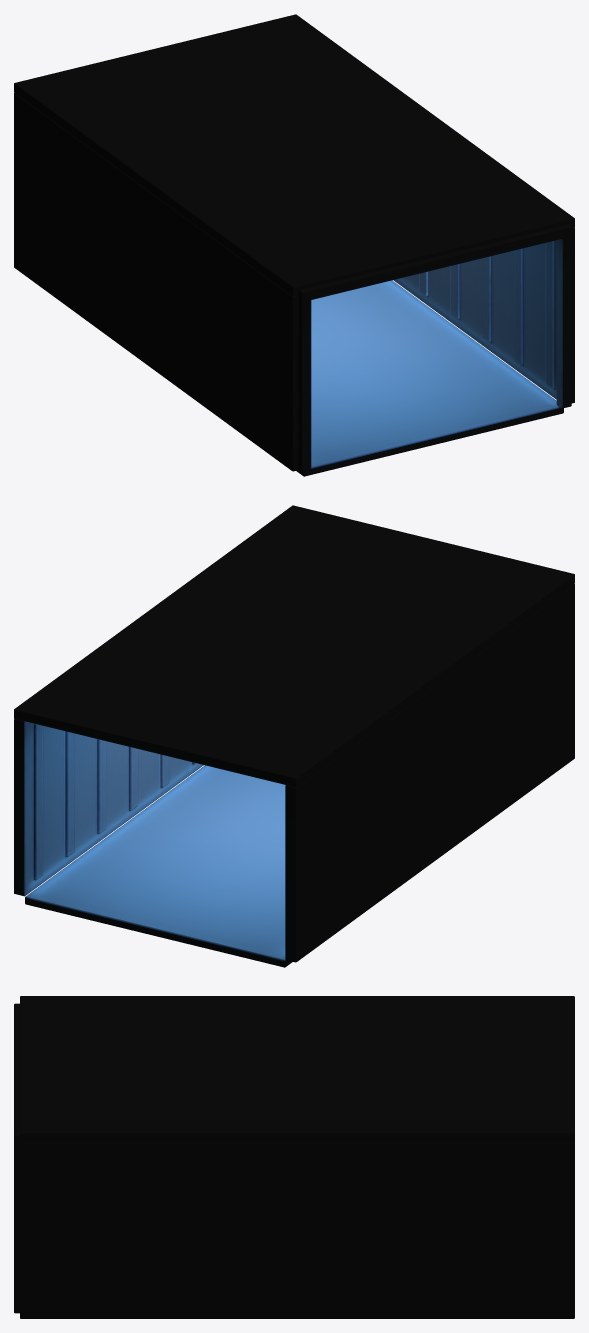
The model's file is corridor-bay.glb.
The picture shows the model from 3 angles, top to bottom: view 1: azimuth 30°, elevation 25°; view 2: azimuth 150°, elevation 25°; view 3: azimuth 270°, elevation 25°; orthographic projection.
Parts seen in each view (by area): view 1: corridor_bay; view 2: corridor_bay; view 3: corridor_bay.
Boxes of the visible parts, x1,y1,x2,y2 form: corridor_bay: (14, 14, 574, 476); corridor_bay: (14, 505, 574, 967); corridor_bay: (14, 996, 574, 1318).
Bounding box in the file's own units: 7.6 × 4.95 × 13.14.
Materials: 1 (1 with a texture image).
